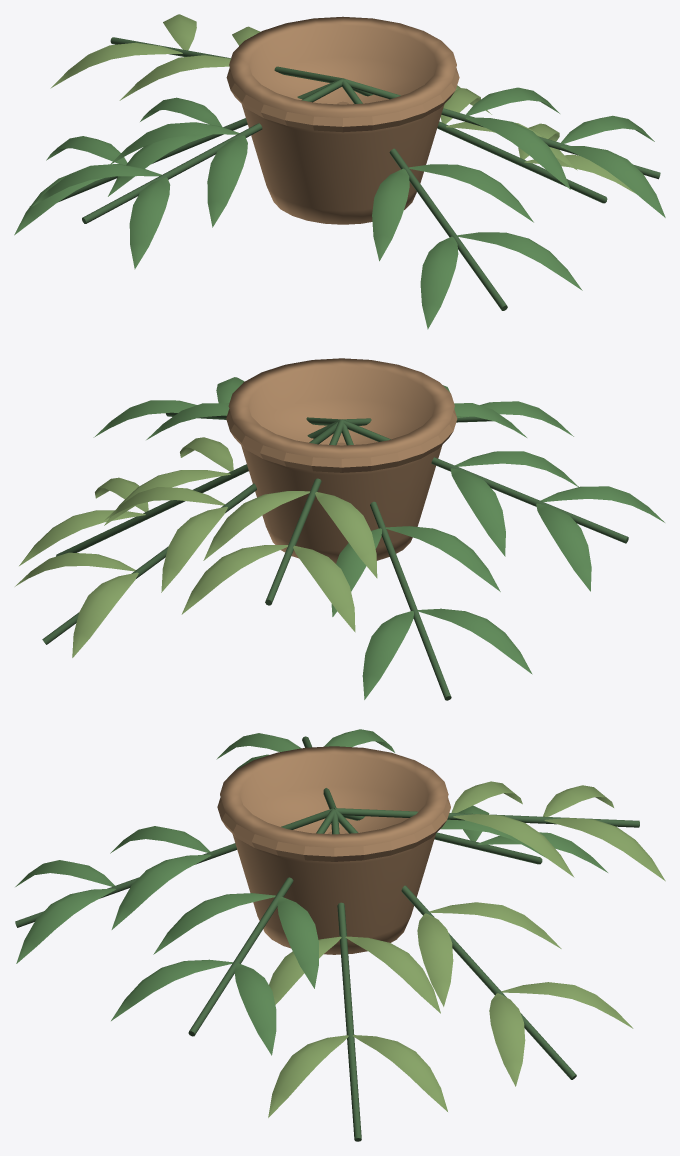
Rendered from SM_HH_Q3_TrailingHerb.fbx.
3 renders of one model, top to bottom at view 1: azimuth 30°, elevation 25°; view 2: azimuth 150°, elevation 25°; view 3: azimuth 270°, elevation 25°, orthographic.
Visible parts, largest first — view 1: HH_Q3_TrailingHerb; view 2: HH_Q3_TrailingHerb; view 3: HH_Q3_TrailingHerb.
Part boxes in pixels (x1,y1,x2,y2): HH_Q3_TrailingHerb: [14, 14, 665, 329]; HH_Q3_TrailingHerb: [15, 358, 664, 700]; HH_Q3_TrailingHerb: [15, 729, 665, 1141].
Size of the model in its own units: 1.05 by 1.05 by 0.3792.
